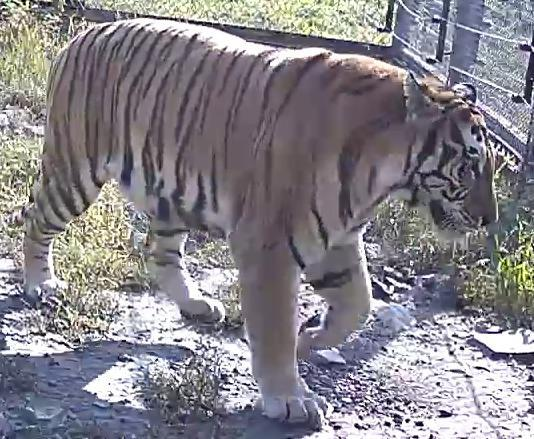tiger: (23, 20, 495, 424)
